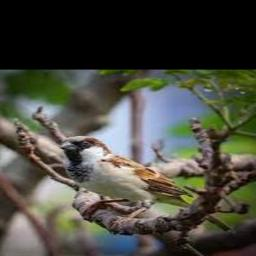Sparrow: (60, 135, 193, 226)
